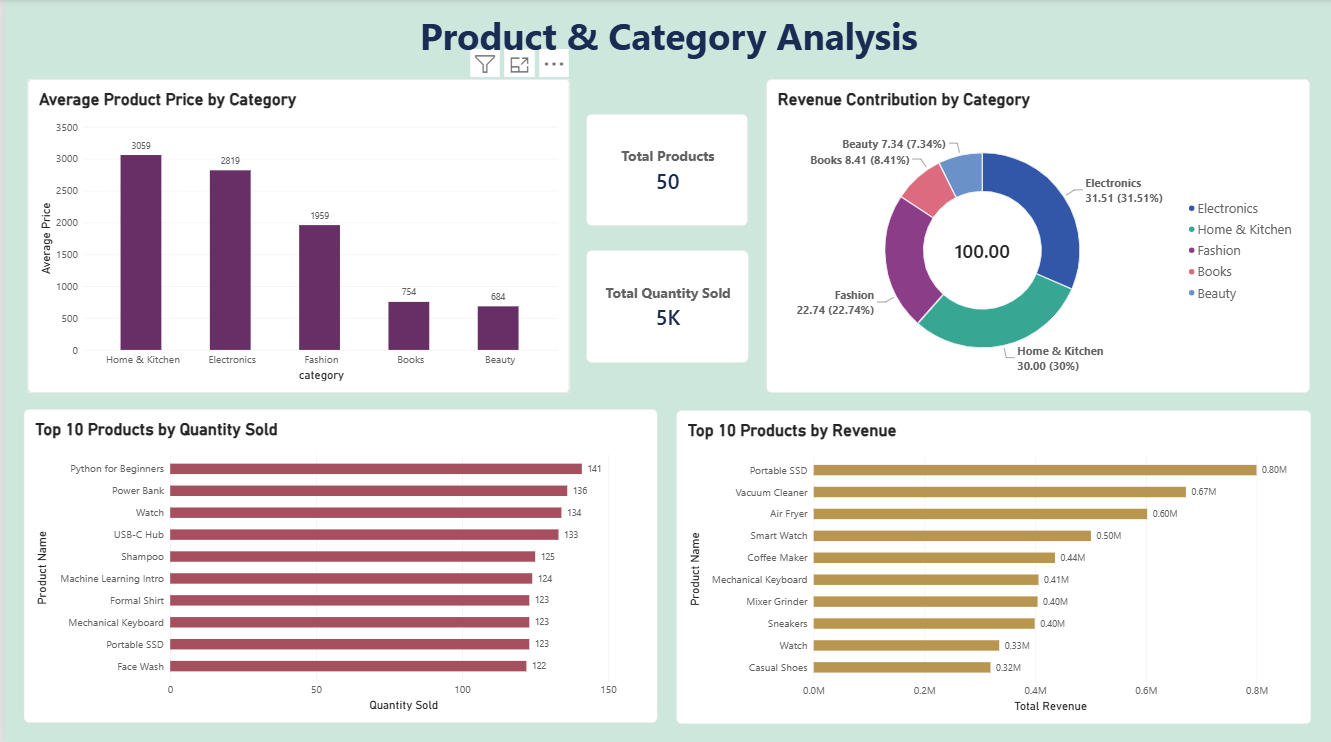

What the dashboard file says about the page in this screenshot:
{"tool":"powerbi","page":{"name":"Page 2","canvas":[1920,1080],"ordinal":1},"visuals":[{"type":"clusteredBarChart","title":"Top 10 Products by Revenue","fields":{"Category":["products.product_name"],"Y":["order_items.Total Revenue"]},"box":[971.8,595.4,919.3,454.2],"z":0},{"type":"clusteredBarChart","title":"Top 10 Products by Quantity Sold","fields":{"Category":["products.product_name"],"Y":["order_items.Quantity Sold"]},"box":[27.1,593.6,917.5,454.2],"z":1000},{"type":"clusteredColumnChart","title":"Average Product Price by Category","fields":{"Category":["products.category"],"Y":["Avg(products.price)"]},"box":[32.6,115.8,785.4,454.2],"z":2000},{"type":"donutChart","title":"Revenue Contribution by Category","fields":{"Category":["products.category"],"Y":["products.Category Revenue Contribution %"]},"box":[1102.1,115.8,787.2,454.2],"z":3000},{"type":"textbox","box":[32.6,16.3,1856.7,99.5],"z":4000},{"type":"cardVisual","fields":{"Data":["products.Total Products"]},"box":[841.5,166.5,234.6,162.6],"z":5000},{"type":"cardVisual","fields":{"Data":["products.Total Quantity Sold"]},"box":[841.5,363.7,235,163],"z":6000}]}

Visuals, with their boxes in screenshot pixels (x1, y1, x2, y2), scaled from the page's 1920x1080 canvas onto the 1331x742 screenshot:
"Top 10 Products by Revenue" clusteredBarChart: [674, 409, 1311, 721]
"Top 10 Products by Quantity Sold" clusteredBarChart: [19, 408, 655, 720]
"Average Product Price by Category" clusteredColumnChart: [23, 80, 567, 392]
"Revenue Contribution by Category" donutChart: [764, 80, 1310, 392]
textbox: [23, 11, 1310, 80]
cardVisual - products.Total Products: [583, 114, 746, 226]
cardVisual - products.Total Quantity Sold: [583, 250, 746, 362]
